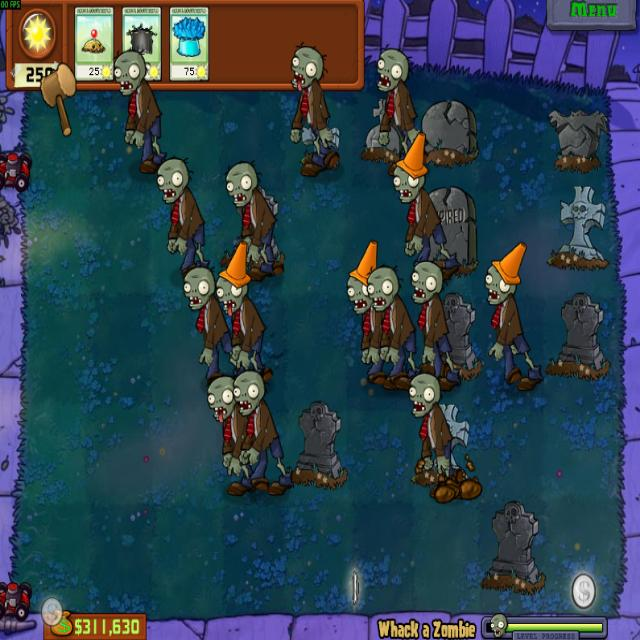conehead: (391, 130, 431, 206), (342, 239, 380, 318), (216, 240, 253, 318), (483, 240, 526, 307)
grave: (480, 500, 547, 597), (545, 290, 610, 382), (415, 182, 478, 274), (414, 400, 475, 495), (545, 183, 607, 273), (289, 400, 349, 488), (227, 186, 282, 272), (416, 97, 478, 169), (425, 293, 476, 377), (546, 105, 608, 174), (298, 110, 340, 169), (364, 99, 402, 163)
gravebuster: (121, 6, 162, 81)
zombie: (286, 42, 326, 91), (153, 157, 192, 206), (373, 46, 411, 94), (223, 158, 260, 207), (202, 375, 238, 424), (110, 47, 146, 95), (180, 266, 217, 312), (406, 372, 443, 416), (409, 260, 444, 306), (367, 265, 401, 311), (232, 370, 266, 414)
